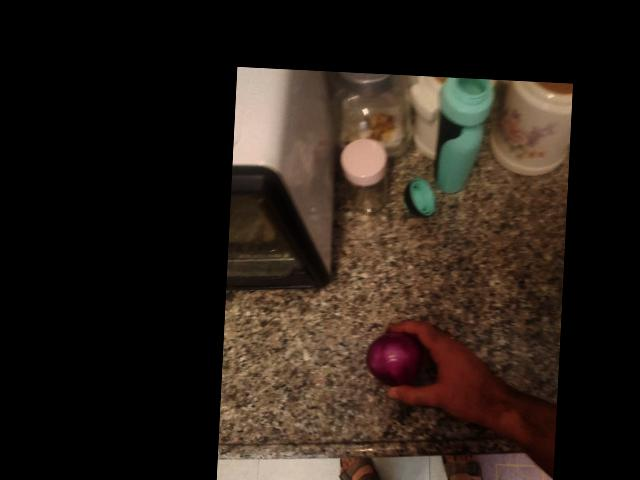onion: (251, 214, 308, 271)
